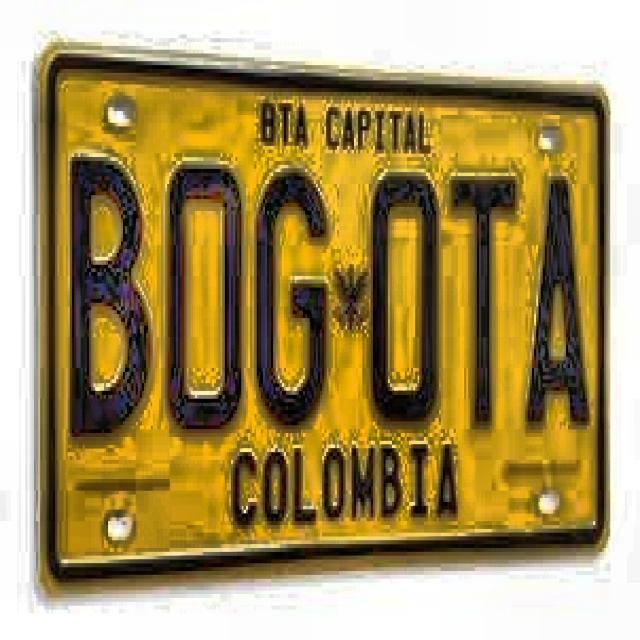plate: (46, 52, 603, 584)
